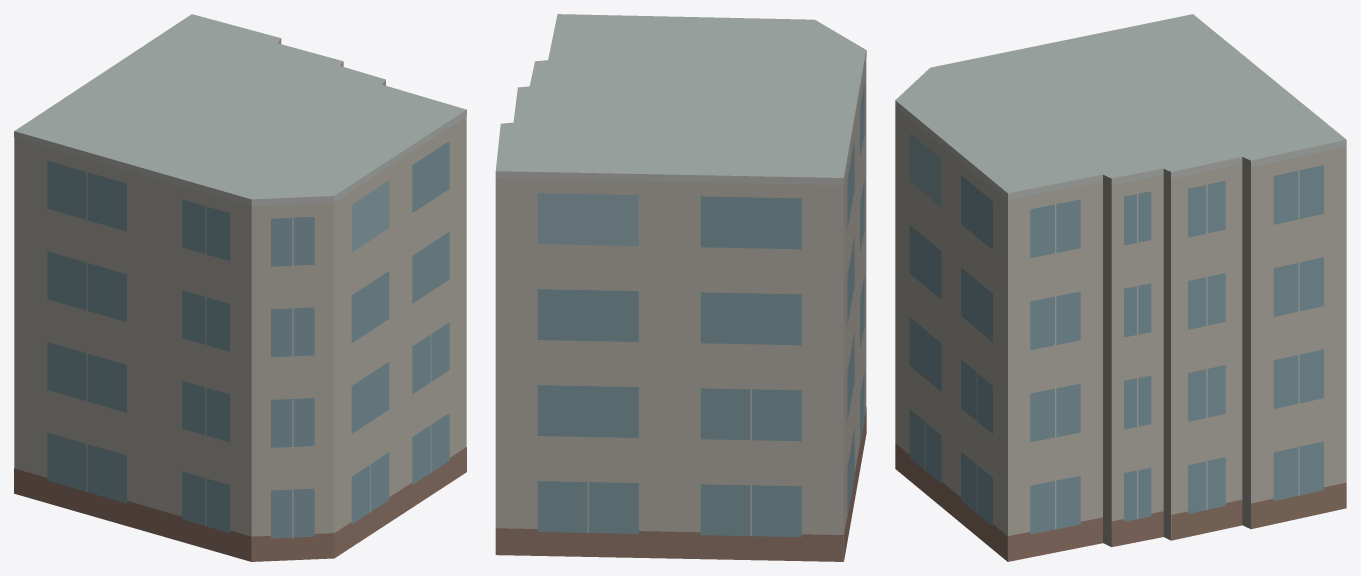
The model's file is survey-upis-32605793.glb.
3 renders of one model, left to right at view 1: azimuth 30°, elevation 25°; view 2: azimuth 150°, elevation 25°; view 3: azimuth 270°, elevation 25°, orthographic. The views are drawn at different scales.
Visible parts, largest first — view 1: survey-upis-32605793.tmp; view 2: survey-upis-32605793.tmp; view 3: survey-upis-32605793.tmp.
Boxes of the visible parts, x1=… form: survey-upis-32605793.tmp: x1=14, y1=14, x2=466, y2=561; survey-upis-32605793.tmp: x1=495, y1=14, x2=866, y2=561; survey-upis-32605793.tmp: x1=895, y1=14, x2=1346, y2=561.
Size of the model in its own units: 13.78 by 13.2 by 14.66.
